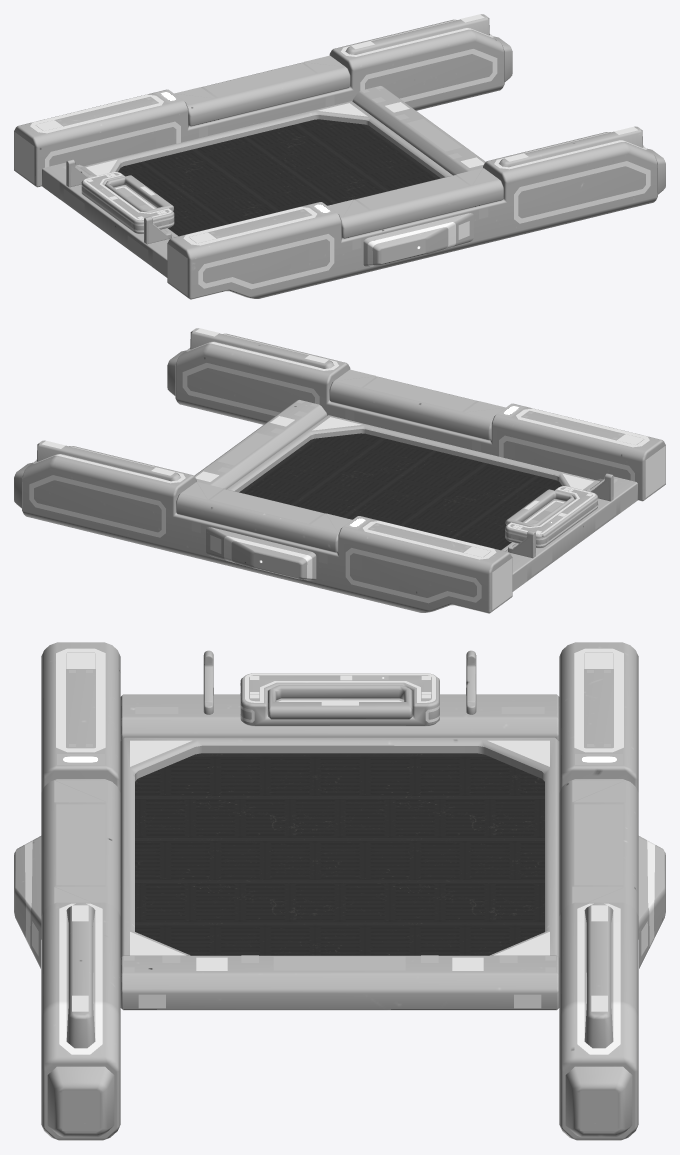
The model's file is SM_RoofConnector_3_Merged.fbx.
3 renders of one model, top to bottom at view 1: azimuth 30°, elevation 25°; view 2: azimuth 150°, elevation 25°; view 3: azimuth 270°, elevation 25°, orthographic. The views are drawn at different scales.
Parts seen in each view (by area): view 1: SM_RoofConnector_3_Merged_LOD0; view 2: SM_RoofConnector_3_Merged_LOD0; view 3: SM_RoofConnector_3_Merged_LOD0.
Boxes of the visible parts, box(x1,y1,x2,y2) form: SM_RoofConnector_3_Merged_LOD0: box(14, 14, 665, 299); SM_RoofConnector_3_Merged_LOD0: box(14, 328, 665, 613); SM_RoofConnector_3_Merged_LOD0: box(14, 642, 665, 1140).
Bounding box in the file's own units: 512 × 355 × 72.82.
